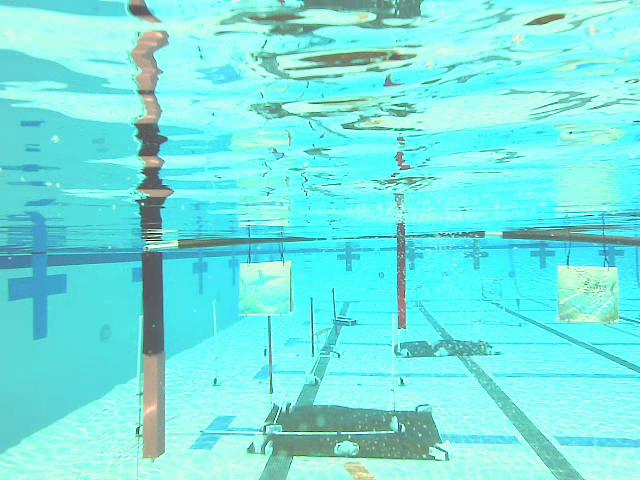black_poster: (141, 253, 166, 460), (331, 288, 340, 336), (311, 298, 315, 357)
divider: (397, 238, 406, 329)
shark: (239, 262, 293, 314)
swordfish: (558, 267, 620, 325)
white_poster: (137, 316, 144, 439), (212, 301, 218, 385)
